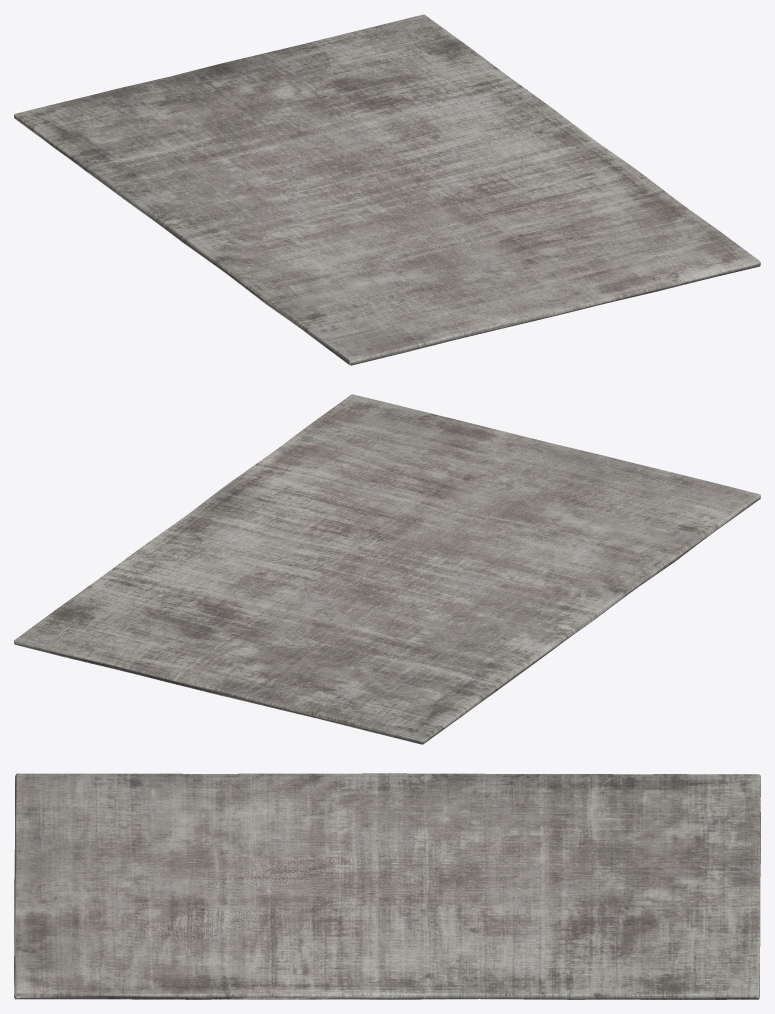
The picture shows the model from 3 angles, top to bottom: view 1: azimuth 30°, elevation 25°; view 2: azimuth 150°, elevation 25°; view 3: azimuth 270°, elevation 25°; orthographic projection. The views are drawn at different scales.
Parts seen in each view (by area): view 1: rugs1; view 2: rugs1; view 3: rugs1.
Part boxes in pixels (x1,y1,x2,y2): rugs1: (14,14,760,365); rugs1: (14,394,760,744); rugs1: (14,773,760,999).
Size of the model in its own units: 1.64 by 0.0285 by 2.33.
1 material, 1 textured.
